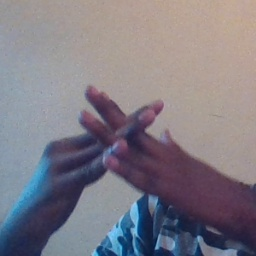W: (50, 77, 185, 200)
